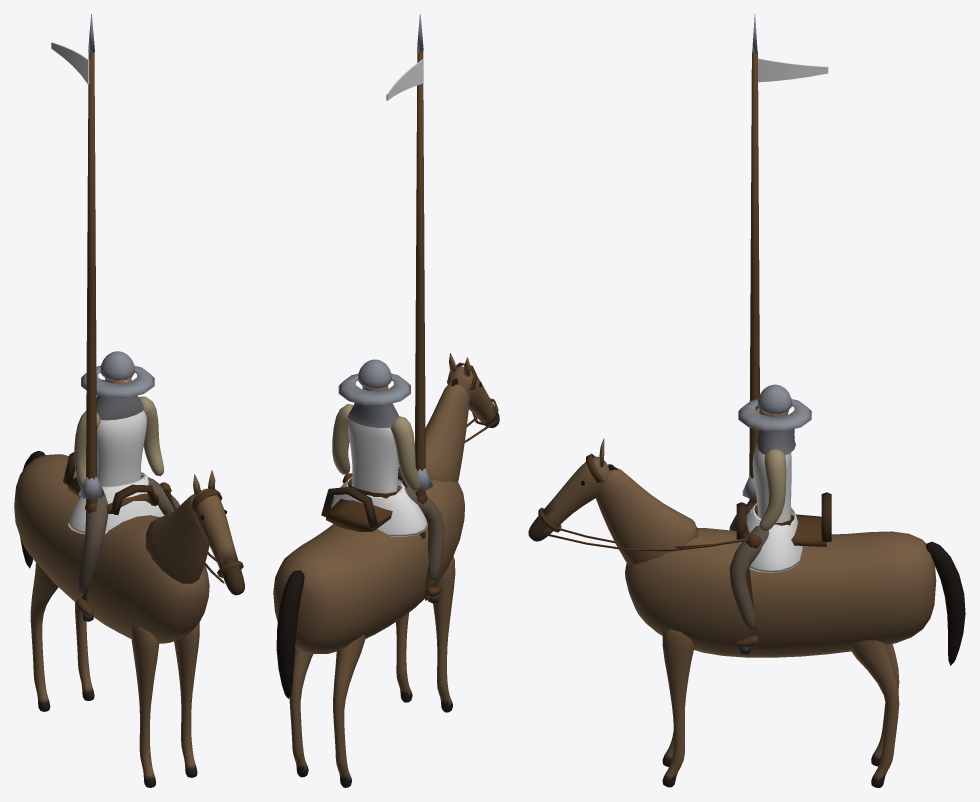
Rendered from cavalry_1.glb.
3 views of the same model, side by side, from view 1: azimuth 30°, elevation 25°; view 2: azimuth 150°, elevation 25°; view 3: azimuth 270°, elevation 25° (orthographic).
Visible parts, largest first — view 1: cavalry_1; view 2: cavalry_1; view 3: cavalry_1.
Part boxes in pixels (left/top/right/bottom): cavalry_1: left=14, top=14, right=244, bottom=787; cavalry_1: left=273, top=14, right=499, bottom=787; cavalry_1: left=528, top=14, right=965, bottom=787.
Size of the model in its own units: 0.7336 by 4.93 by 2.62.
